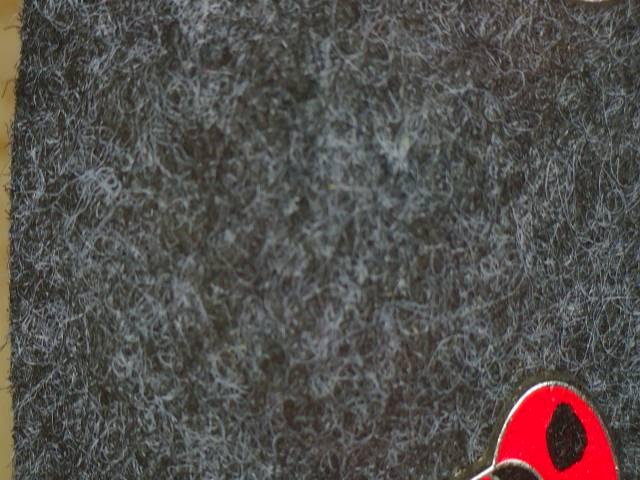Red-Hat: (421, 339, 640, 480)
Scratch: (538, 392, 597, 473)
